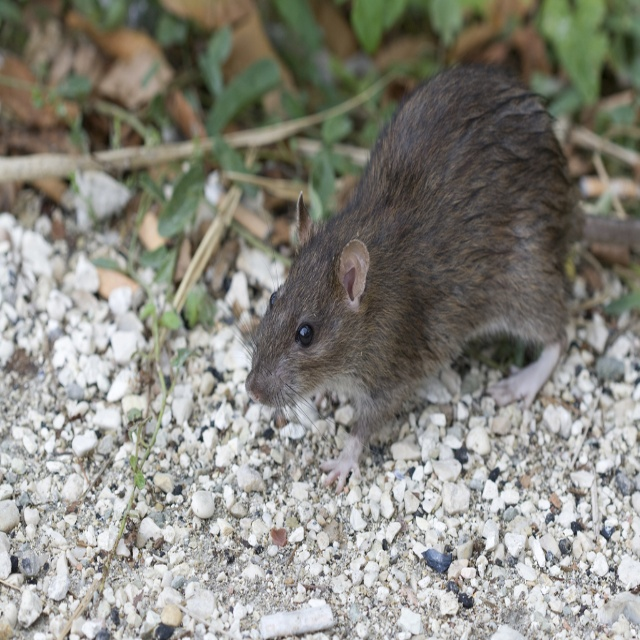Mouse: (216, 56, 640, 495)
